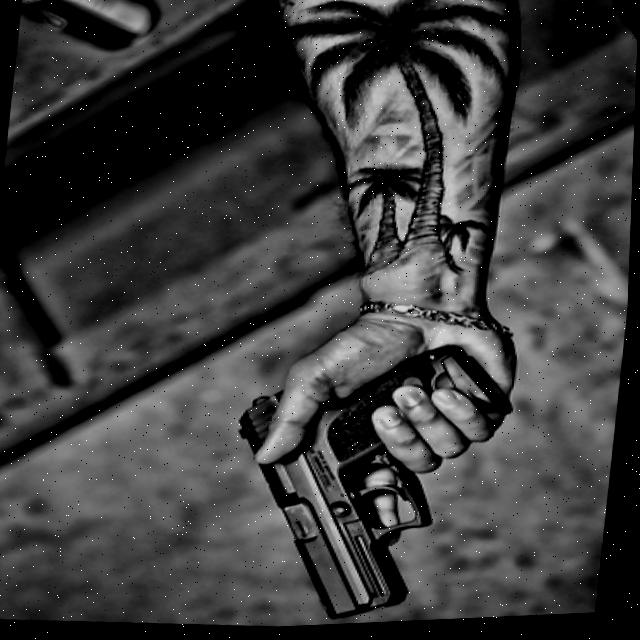pistol: (212, 377, 450, 632)
